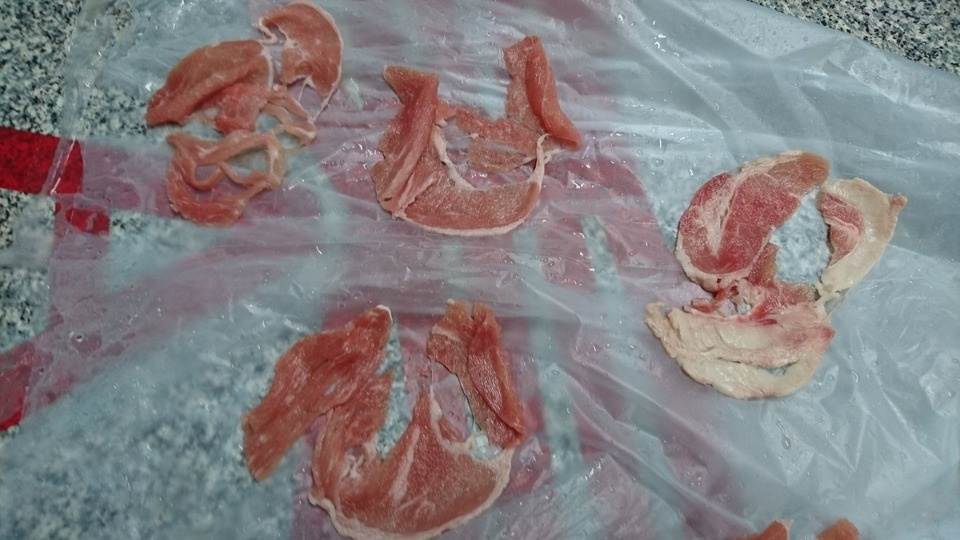restructured meat: (230, 295, 549, 535), (661, 158, 882, 402), (379, 53, 589, 238), (157, 26, 340, 226)
